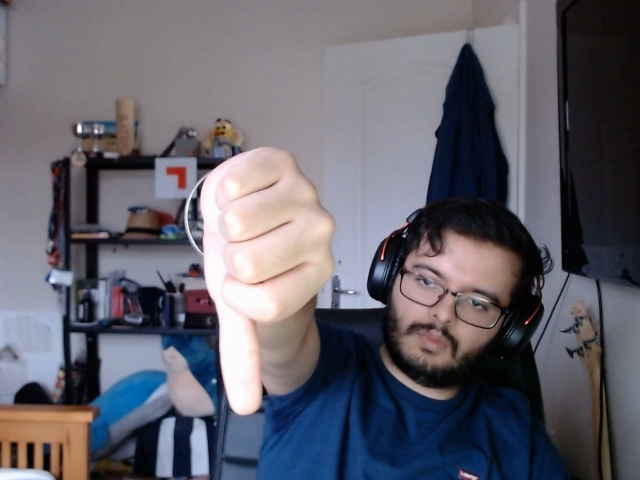Thumbs down: (199, 136, 352, 446)
